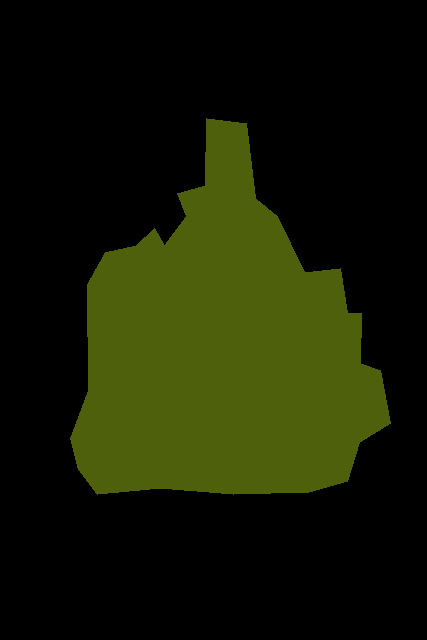Train: (70, 118, 391, 494)
